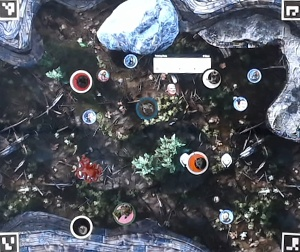black: (67, 155, 101, 185), (68, 211, 95, 239)
brown_turquoise: (135, 97, 158, 120)
orange: (185, 150, 208, 173)
pink_green: (111, 200, 137, 226)
red: (70, 70, 93, 93)
white: (200, 67, 223, 90)
